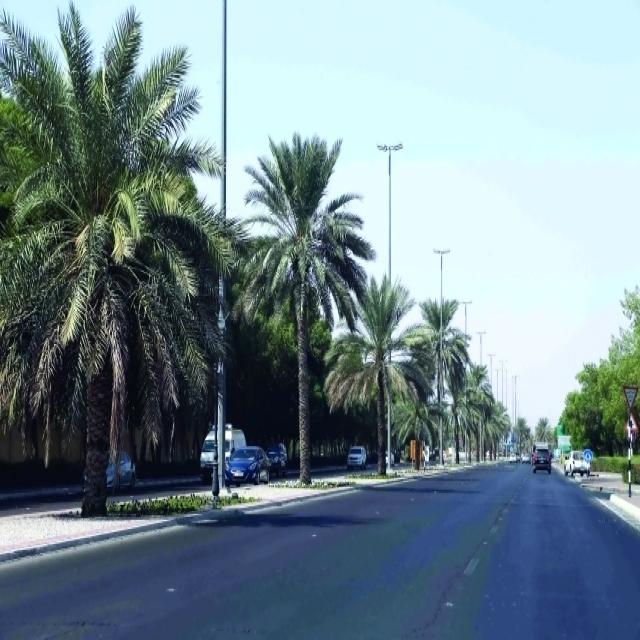car: (198, 402, 253, 468), (226, 436, 276, 496), (338, 416, 372, 482), (524, 434, 556, 491), (566, 444, 601, 489)
column: (210, 42, 241, 499), (373, 145, 400, 482), (613, 366, 639, 518)
tree: (24, 72, 134, 521), (279, 162, 333, 496), (360, 297, 391, 483), (398, 349, 433, 476), (430, 317, 450, 476), (450, 342, 467, 482)
